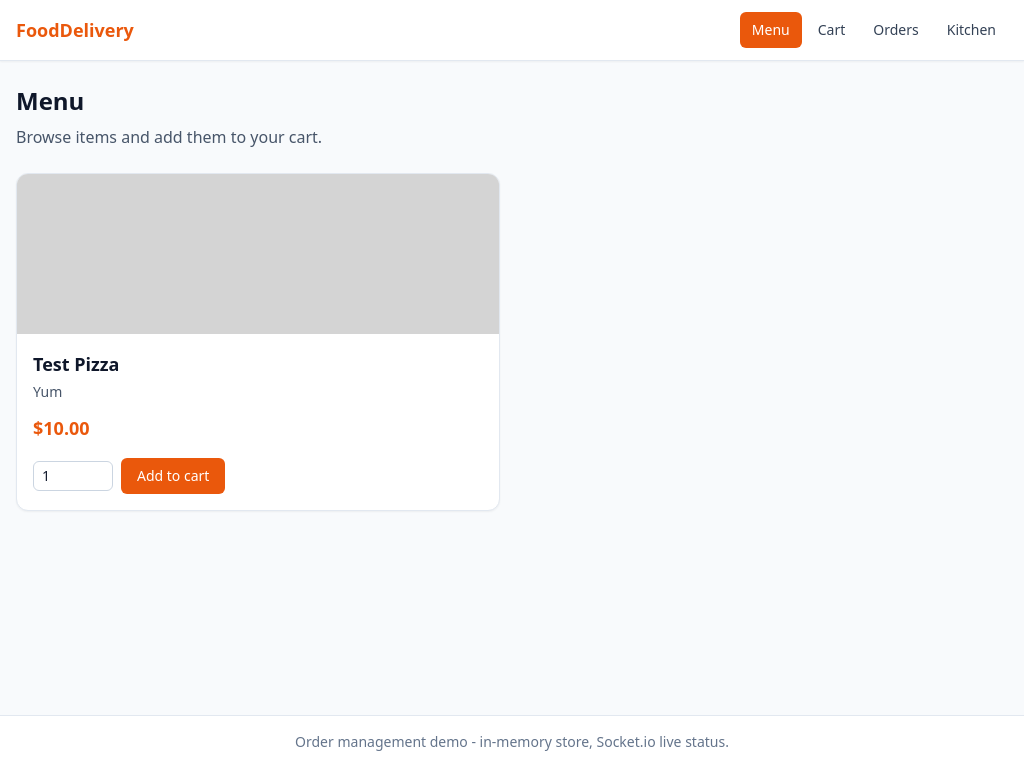
Test: MenuPage › renders menu from API and add-to-cart updates badge and subtotal
Check: the heading "Test Pizza" is shown, box 33,352 -> 120,376
Click the button "Add to cart". click: {"x": 173, "y": 476}
box: 121,458 -> 225,494
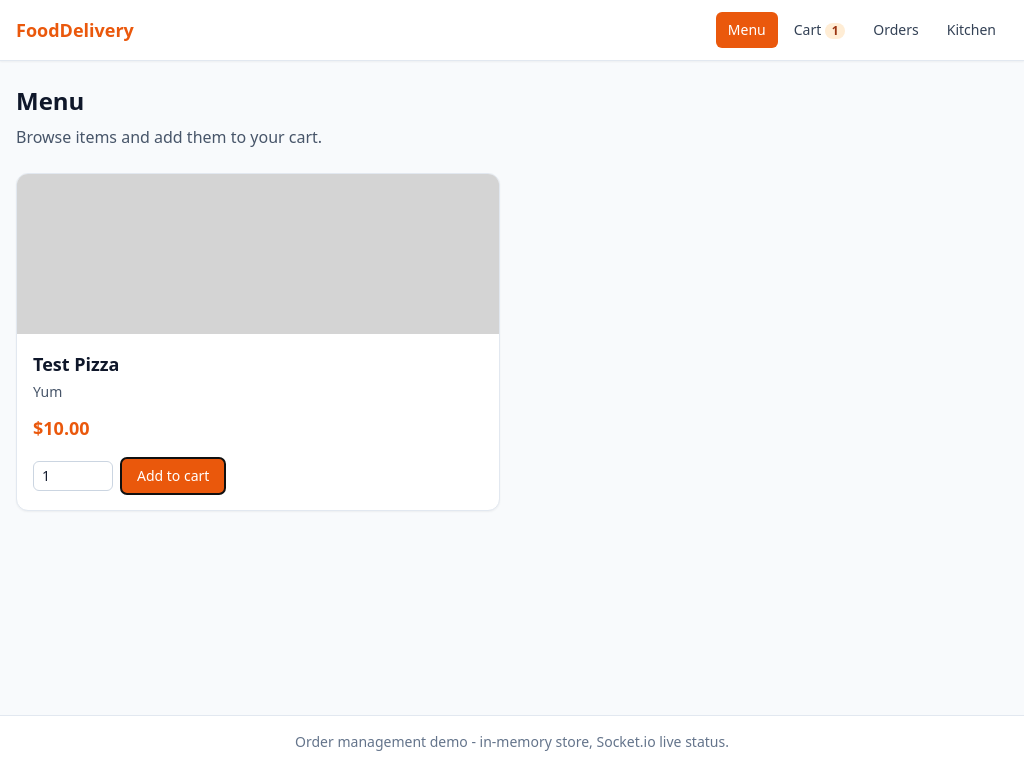
Check: the text with test id "cart-badge" reads "1", box 832,22 -> 839,39
Click the link "Cart 1". click: {"x": 820, "y": 30}
box: 794,20 -> 845,39
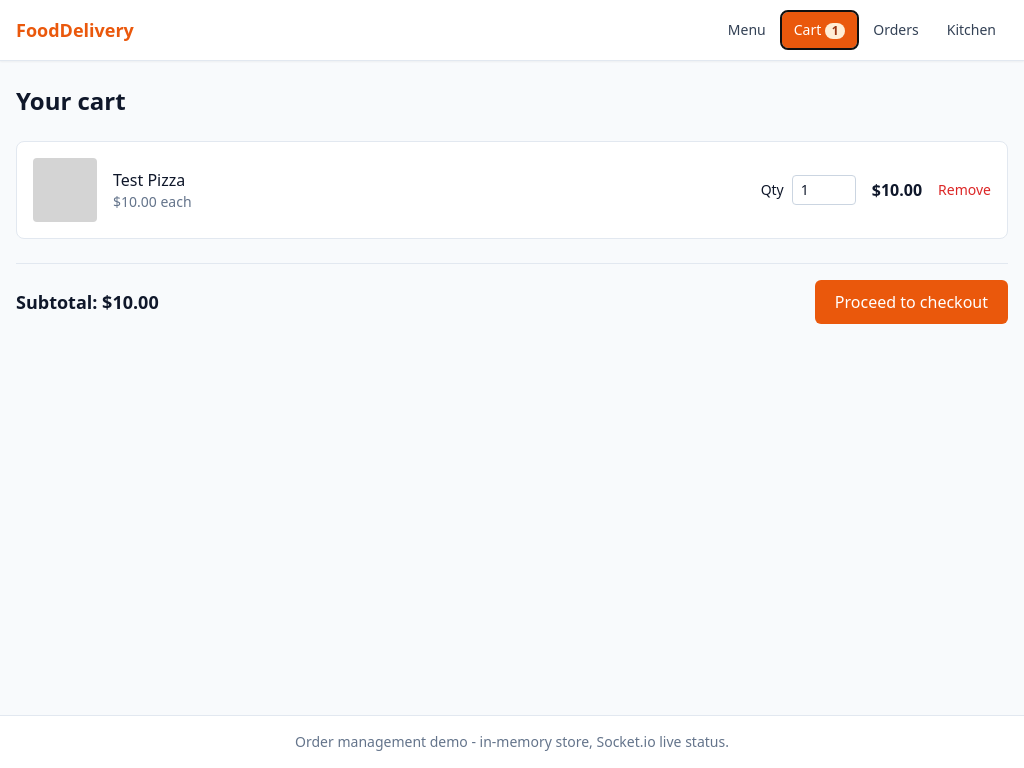
Check: the text with test id "cart-subtotal" reads "Subtotal: $10.00", box 16,288 -> 159,316
